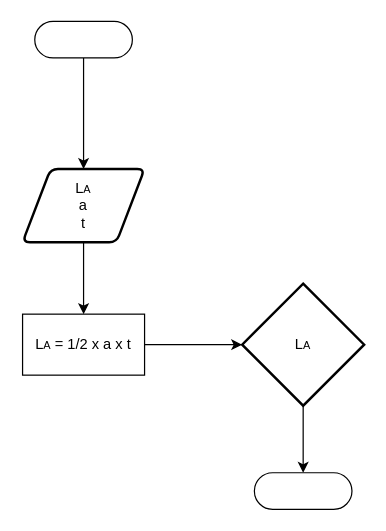
The diagram is 386 pixels wide and 531 high, and some of its shapes have lost their labels. The shapes that lost their labels are listed below. From the top down, each one's centre as x and y in pixels, then its label:
At point (83, 39): "start".
At point (302, 490): "End".
